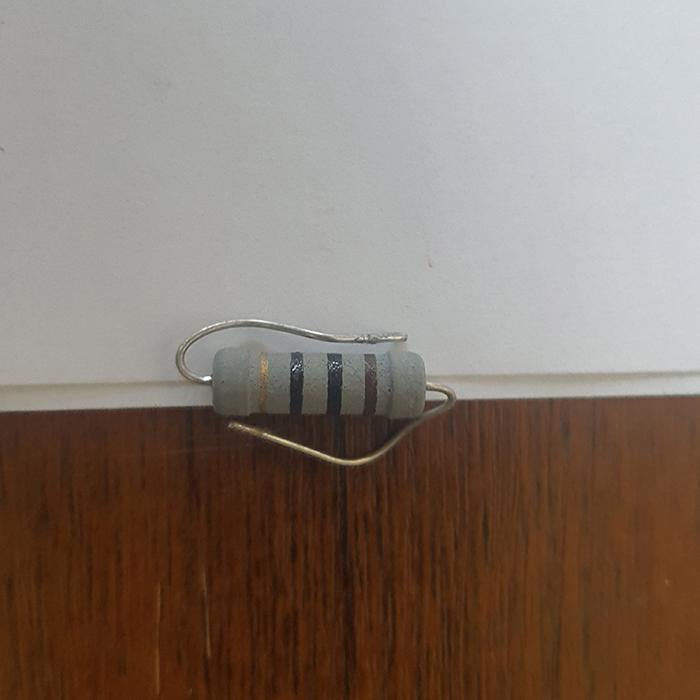resistor: (209, 346, 427, 418)
